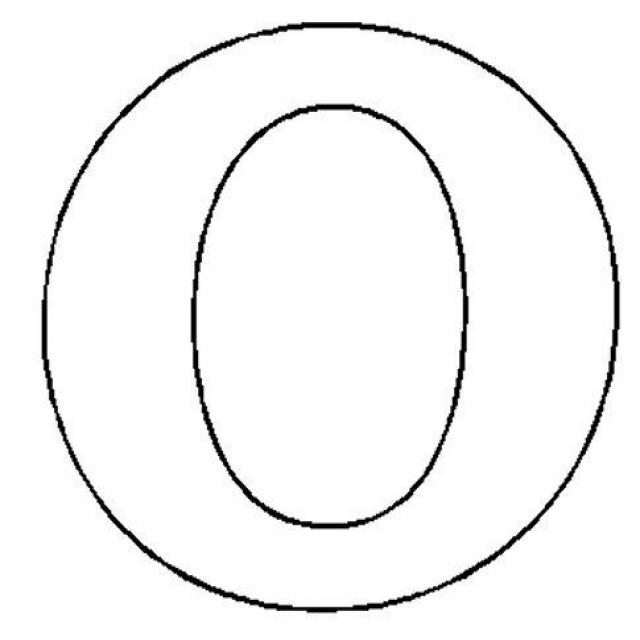O: (7, 7, 633, 632)
